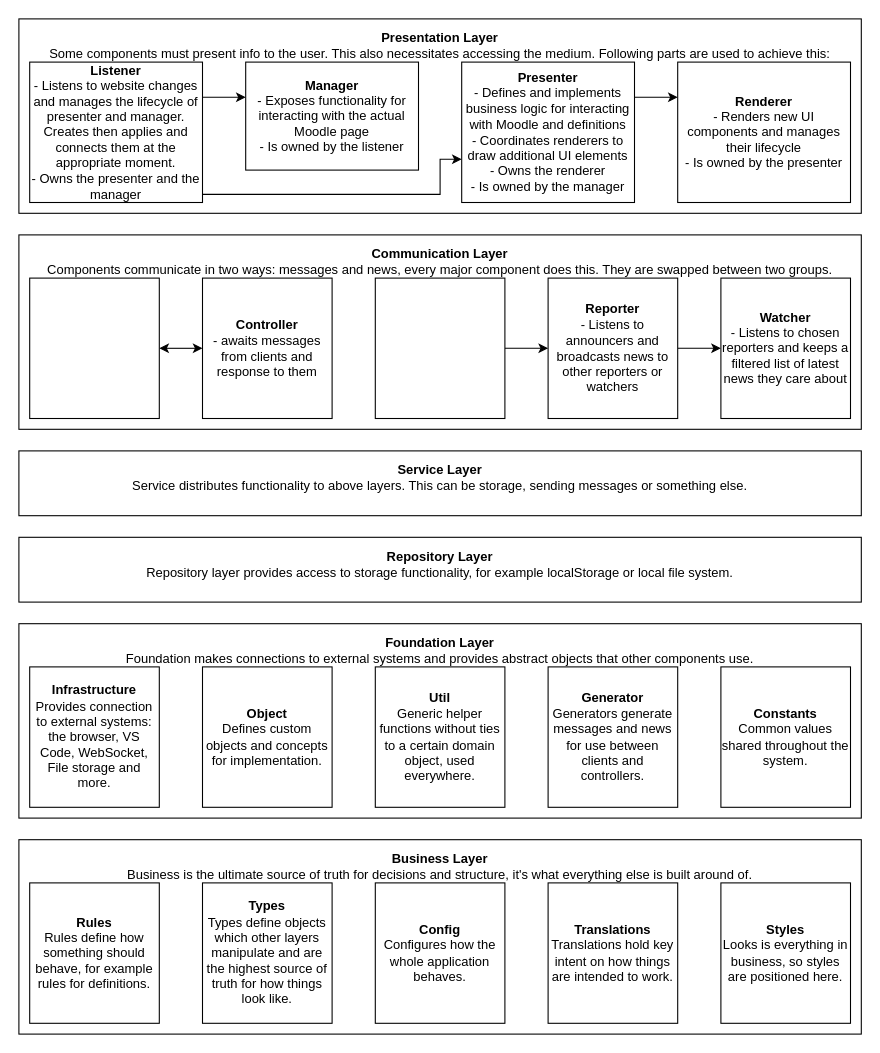
This 880x1053 diagram has some shape labels left out. The shapes that lost their labels are listed below. From the top down, each one's centre as x and y in pixels, then its label:
the point at 94,347: Client - sends a message to and expects a response from a controller
the point at 439,347: Announcer - Broadcasts news of happenings without expecting a response
